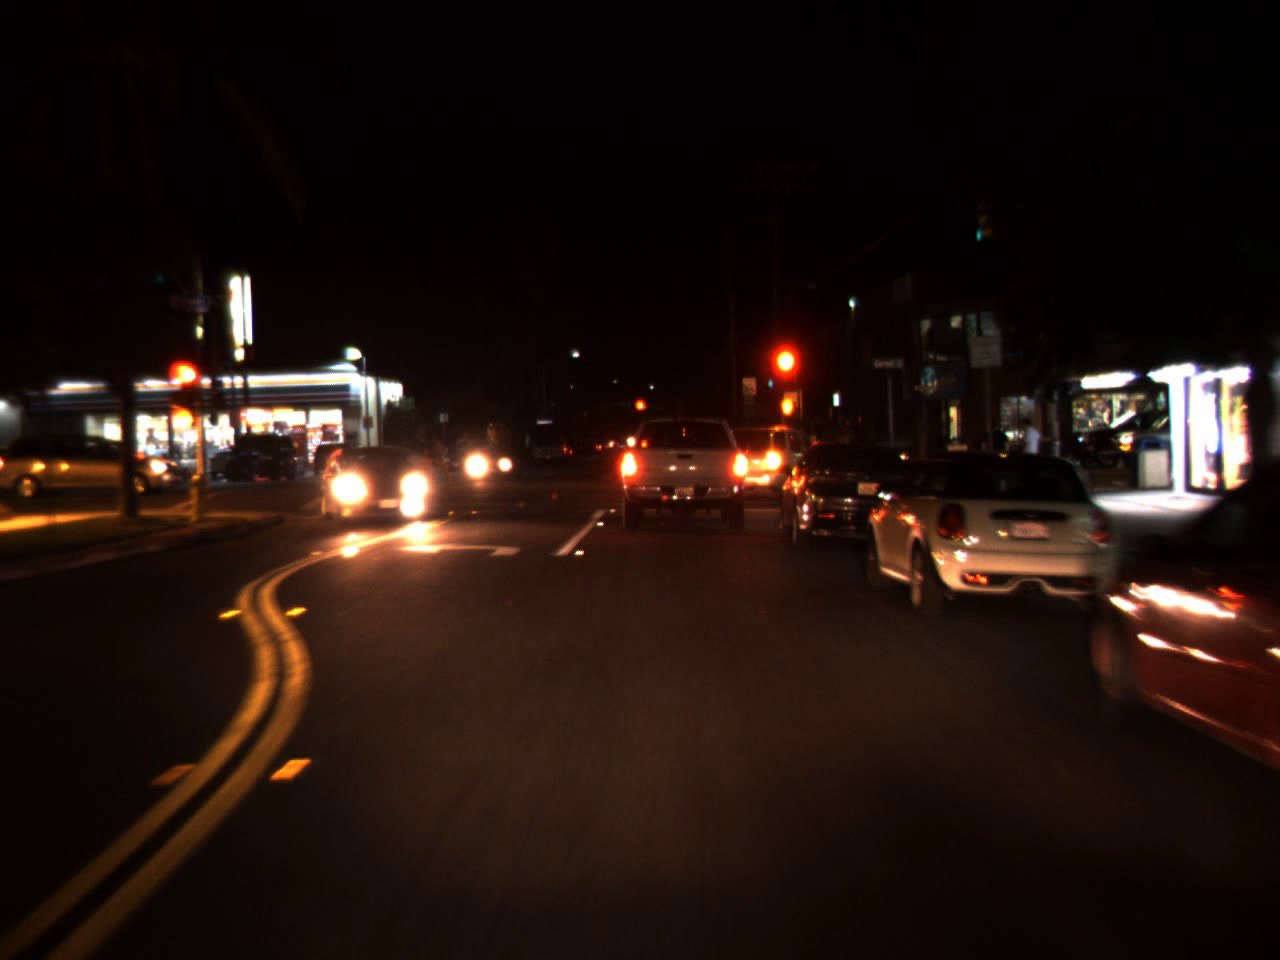stop: (169, 354, 208, 416), (768, 342, 796, 404), (633, 397, 646, 424)
